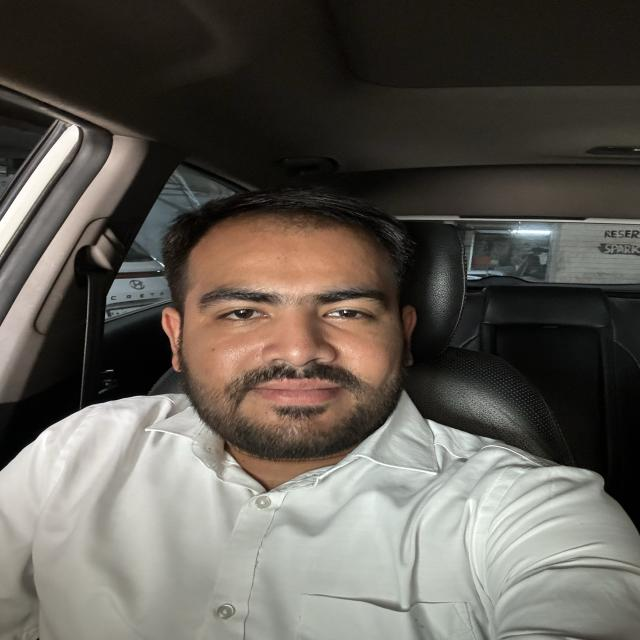no-seatbelt: (0, 405, 637, 640)
